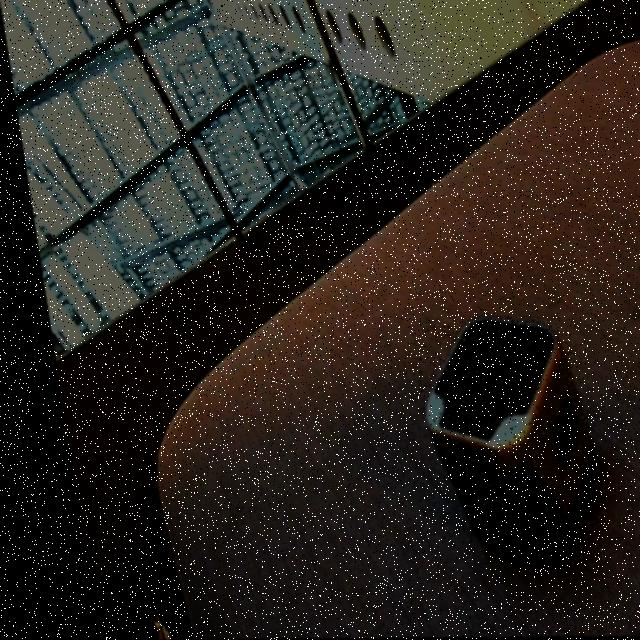adapter: (397, 315, 593, 564)
